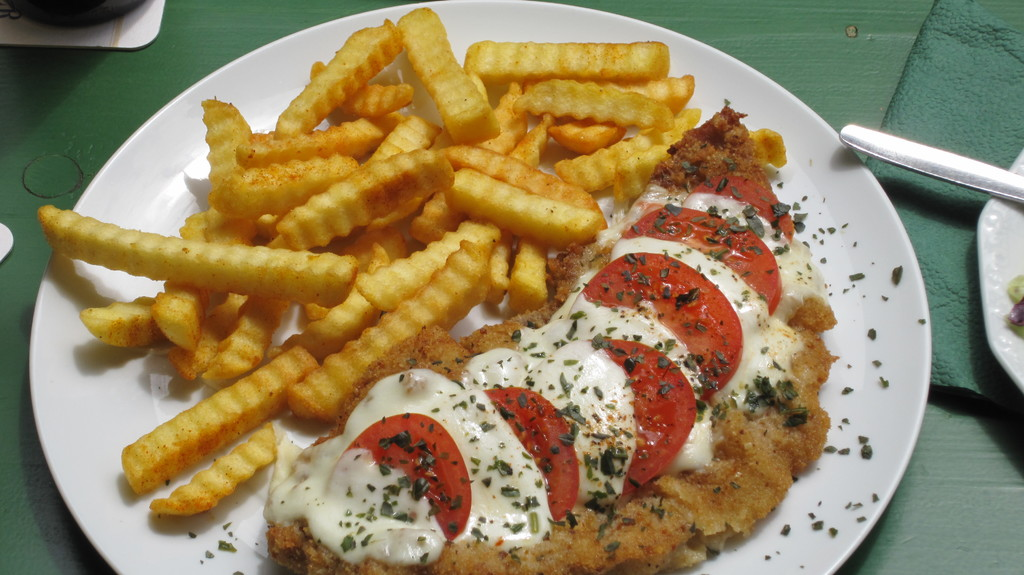French fries: (28, 0, 791, 527)
